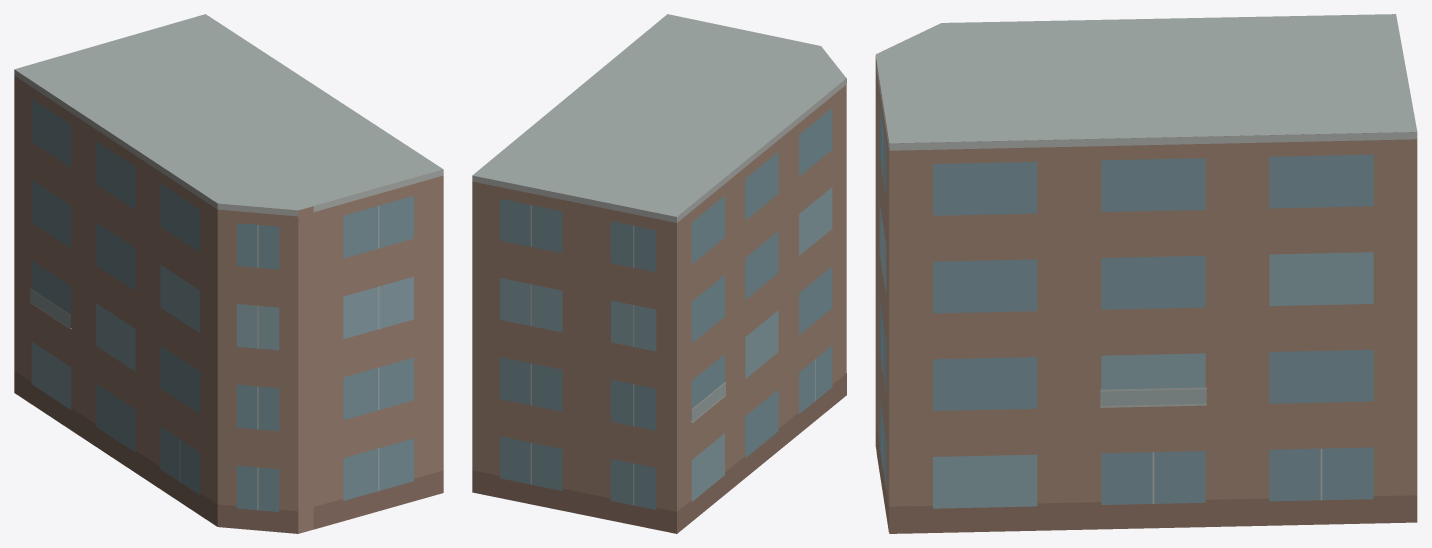
File: survey-upis-32747030.glb
3 renders of one model, left to right at view 1: azimuth 30°, elevation 25°; view 2: azimuth 150°, elevation 25°; view 3: azimuth 270°, elevation 25°, orthographic. The views are drawn at different scales.
Parts seen in each view (by area): view 1: survey-upis-32747030.tmp; view 2: survey-upis-32747030.tmp; view 3: survey-upis-32747030.tmp.
Boxes of the visible parts, x1,y1,x2,y2 form: survey-upis-32747030.tmp: [14, 14, 443, 533]; survey-upis-32747030.tmp: [472, 14, 846, 533]; survey-upis-32747030.tmp: [875, 14, 1417, 533].
Bounding box in the file's own units: 9.15 × 12.88 × 16.2.
